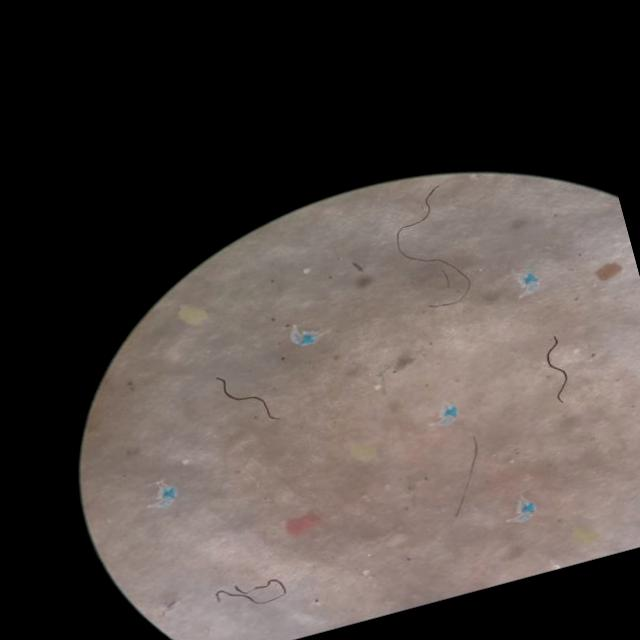fiber: (395, 185, 470, 306), (215, 377, 277, 419), (454, 435, 478, 517), (214, 578, 286, 604), (545, 336, 567, 402)
film: (150, 484, 173, 507), (290, 327, 316, 345), (516, 500, 535, 521), (521, 271, 536, 292), (437, 415, 457, 424)
fragment: (284, 512, 318, 535), (178, 305, 206, 325), (595, 261, 621, 281), (571, 528, 598, 545), (350, 444, 375, 460)
pellet: (374, 382, 381, 390), (302, 267, 308, 273), (181, 460, 189, 464)
